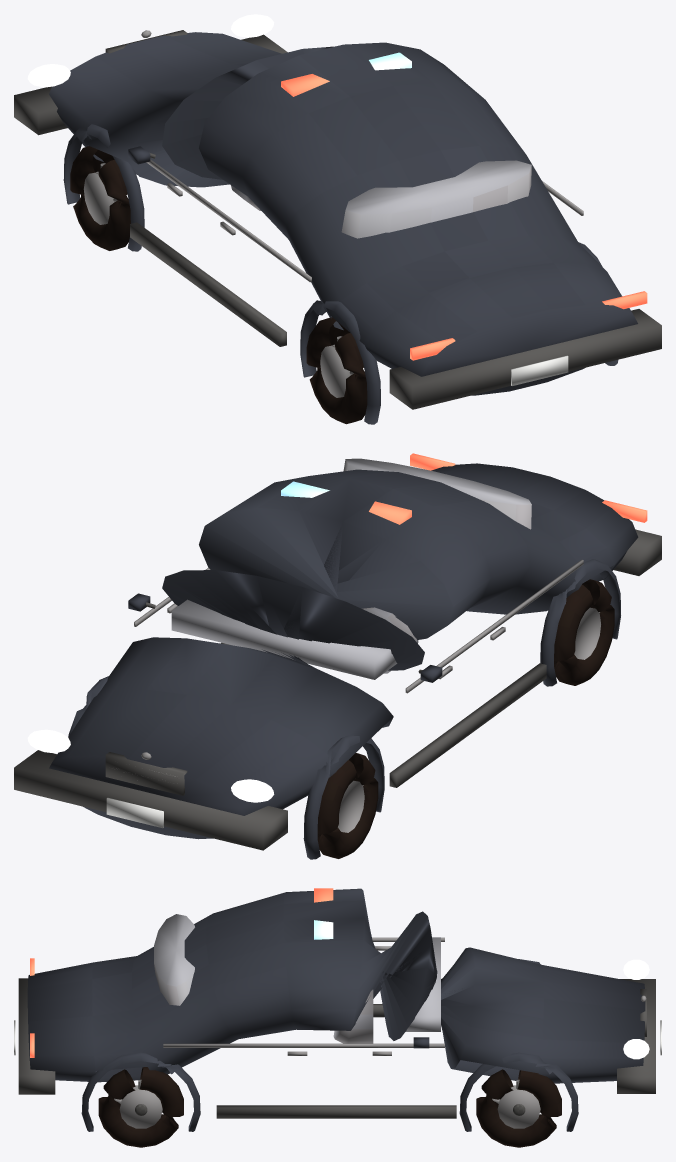
Rendered from cop.glb.
3 renders of one model, top to bottom at view 1: azimuth 30°, elevation 25°; view 2: azimuth 150°, elevation 25°; view 3: azimuth 270°, elevation 25°, orthographic. The views are drawn at different scales.
Visible parts, largest first — view 1: Body, WheelRL, WheelFL; view 2: Body, WheelRL, WheelFL; view 3: Body, WheelRR, WheelFR.
Boxes of the visible parts, bbox=[...] form: Body: bbox=[14, 14, 661, 424]; WheelRL: bbox=[306, 317, 367, 424]; WheelFL: bbox=[70, 146, 130, 250]; Body: bbox=[14, 453, 661, 859]; WheelRL: bbox=[554, 579, 614, 685]; WheelFL: bbox=[317, 753, 378, 858]; Body: bbox=[14, 888, 661, 1131]; WheelRR: bbox=[98, 1067, 183, 1147]; WheelFR: bbox=[476, 1069, 561, 1147].
Bounding box in the file's own units: 2.15 × 1.61 × 4.97.
10 materials, 6 textured.
